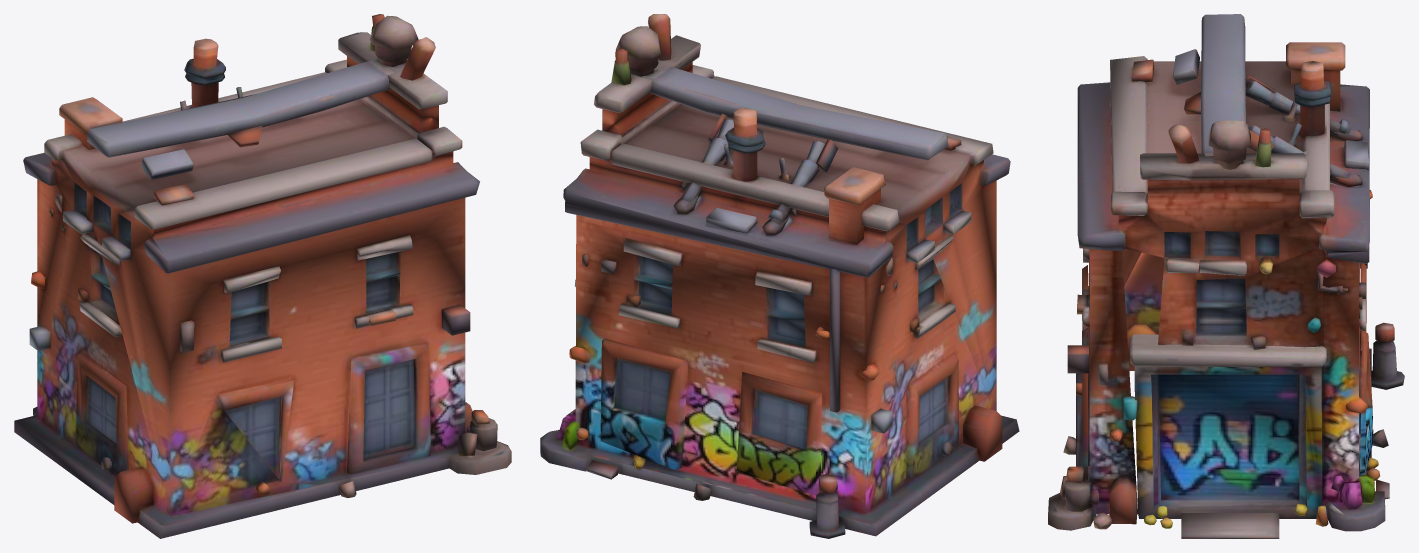
Rendered from bld-warehouse.glb.
3 views of the same model, side by side, from view 1: azimuth 30°, elevation 25°; view 2: azimuth 150°, elevation 25°; view 3: azimuth 270°, elevation 25° (orthographic). The views are drawn at different scales.
Parts seen in each view (by area): view 1: tripo_node_0bdd7a39-0fd5-40c3-961a-74e71969296e; view 2: tripo_node_0bdd7a39-0fd5-40c3-961a-74e71969296e; view 3: tripo_node_0bdd7a39-0fd5-40c3-961a-74e71969296e.
Part boxes in pixels (left/top/right/bottom): tripo_node_0bdd7a39-0fd5-40c3-961a-74e71969296e: left=14, top=14, right=511, bottom=538; tripo_node_0bdd7a39-0fd5-40c3-961a-74e71969296e: left=540, top=14, right=1019, bottom=538; tripo_node_0bdd7a39-0fd5-40c3-961a-74e71969296e: left=1048, top=14, right=1404, bottom=538.
Bounding box in the file's own units: 0.9825 × 0.998 × 0.8203.
1 material, 1 textured.
